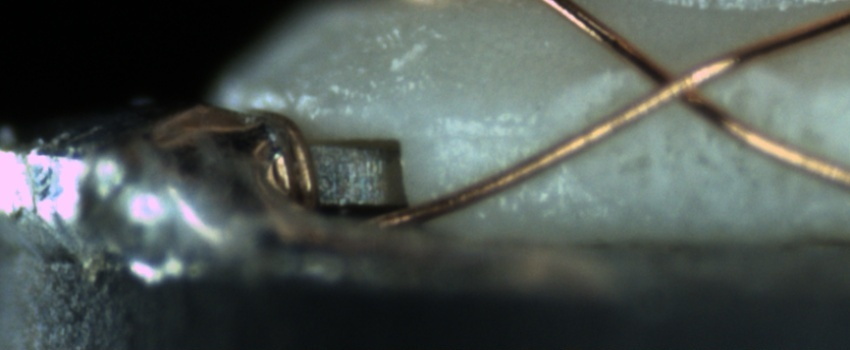CL: (624, 44, 726, 121)
DL: (440, 105, 545, 167)
TE: (255, 104, 331, 215)
